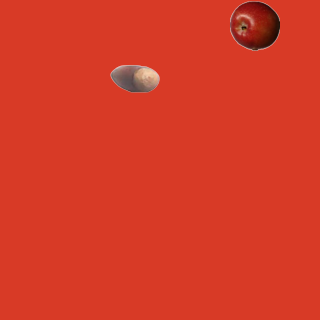Apple Braeburn: (229, 0, 279, 50)
Hazelnut: (109, 53, 159, 103)
